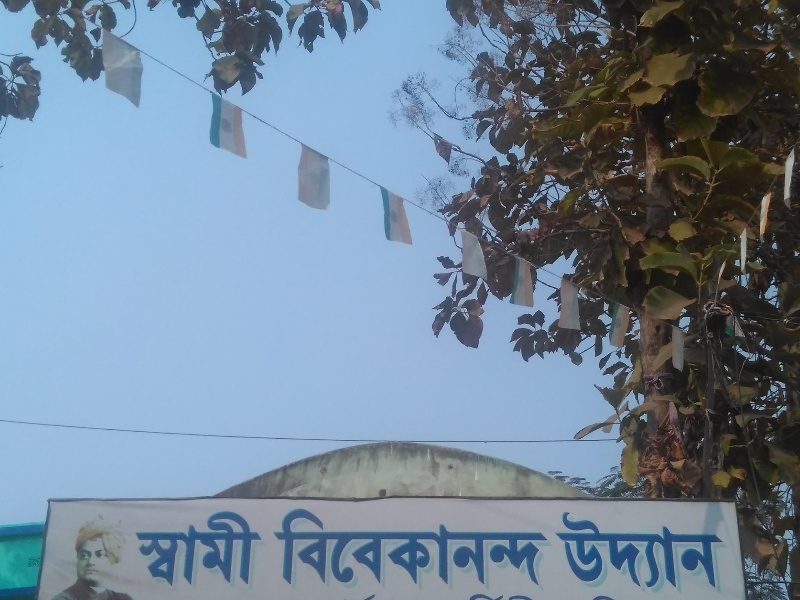text: (289, 508, 304, 586), (305, 508, 320, 586), (321, 508, 336, 586), (337, 508, 352, 586), (353, 508, 368, 586), (369, 508, 384, 586), (385, 508, 400, 586), (401, 508, 416, 586), (417, 508, 432, 586), (433, 508, 448, 586), (449, 508, 464, 586), (465, 508, 480, 586), (481, 508, 496, 586), (497, 508, 512, 586), (513, 508, 528, 586), (529, 508, 544, 586), (561, 513, 576, 590), (577, 513, 592, 590), (593, 513, 608, 590), (609, 513, 624, 590), (625, 513, 640, 590), (641, 513, 656, 590), (657, 513, 672, 590), (673, 513, 688, 590), (689, 513, 704, 590), (705, 513, 720, 590), (145, 512, 160, 586), (161, 512, 176, 586), (177, 512, 192, 586), (193, 512, 208, 586), (209, 512, 224, 586), (225, 512, 240, 586), (241, 512, 256, 586), (276, 508, 288, 586), (135, 512, 144, 586), (257, 512, 263, 586), (545, 508, 549, 586), (557, 513, 560, 590), (481, 593, 496, 600), (497, 593, 512, 600), (513, 593, 528, 600), (468, 593, 480, 600), (369, 593, 381, 600), (721, 513, 722, 590), (593, 595, 608, 600), (529, 593, 539, 600), (362, 593, 368, 600), (609, 595, 616, 600)
